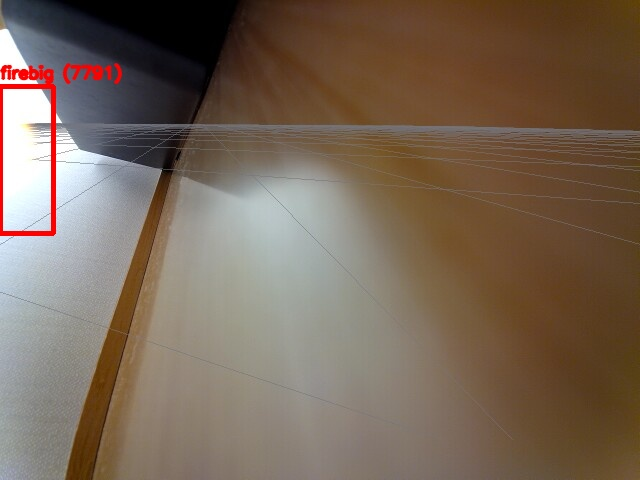firebig: (0, 86, 53, 233)
